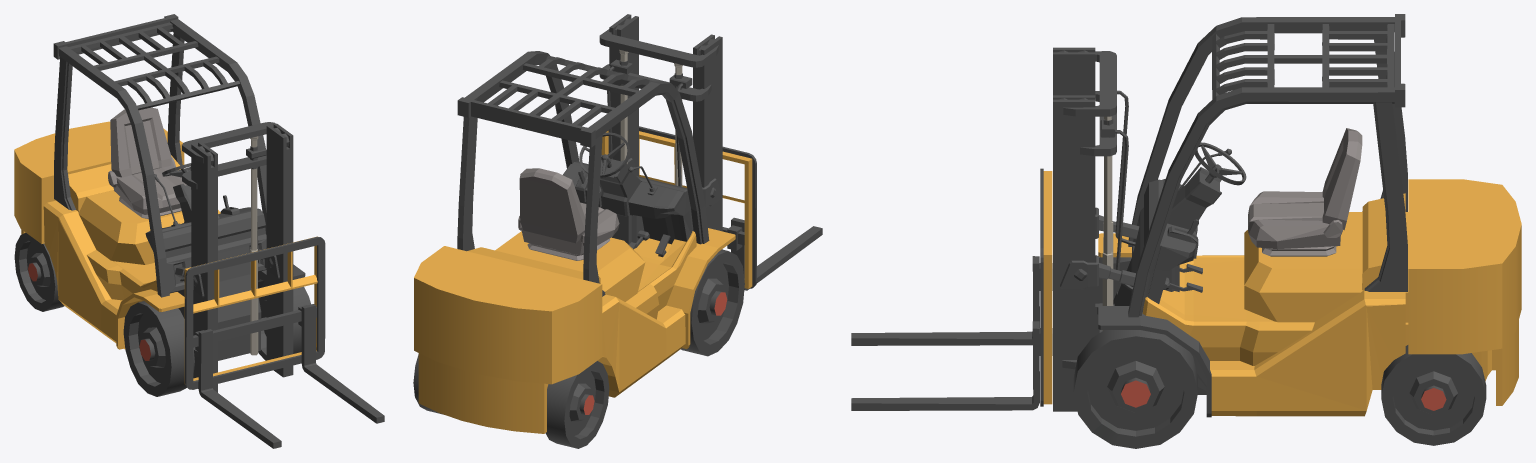
The model's file is SM_Forklift_01.fbx.
3 views of the same model, side by side, from view 1: azimuth 30°, elevation 25°; view 2: azimuth 150°, elevation 25°; view 3: azimuth 270°, elevation 25° (orthographic). The views are drawn at different scales.
Visible parts, largest first — view 1: SM_Forklift_01; view 2: SM_Forklift_01; view 3: SM_Forklift_01.
Part boxes in pixels (box(x1,y1,x2,y2)): SM_Forklift_01: box(14, 14, 384, 448); SM_Forklift_01: box(413, 14, 822, 448); SM_Forklift_01: box(851, 14, 1521, 448).
Size of the model in its own units: 147 by 256 by 443.
